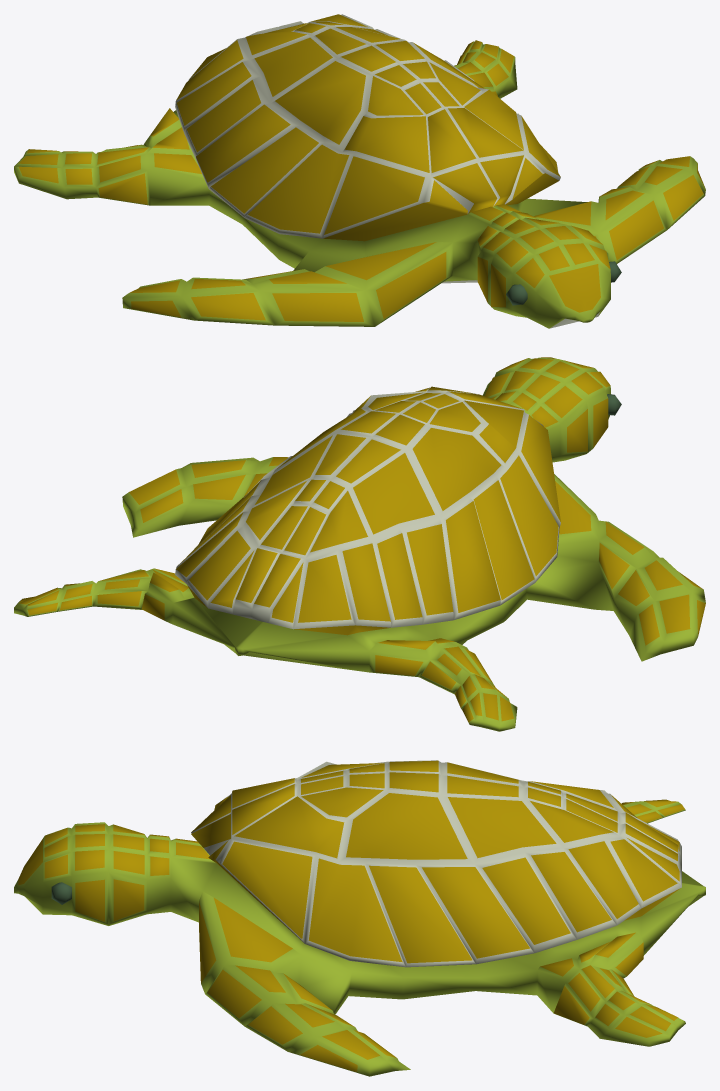
Rendered from turtle.glb.
3 renders of one model, top to bottom at view 1: azimuth 30°, elevation 25°; view 2: azimuth 150°, elevation 25°; view 3: azimuth 270°, elevation 25°, orthographic.
Parts seen in each view (by area): view 1: Turtle.1; view 2: Turtle.1; view 3: Turtle.1.
Boxes of the visible parts, bbox=[...] form: Turtle.1: bbox=[14, 14, 705, 328]; Turtle.1: bbox=[14, 357, 705, 731]; Turtle.1: bbox=[14, 760, 705, 1076].
Size of the model in its own units: 676 by 204 by 718.
